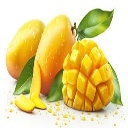mango: (33, 14, 77, 96)
